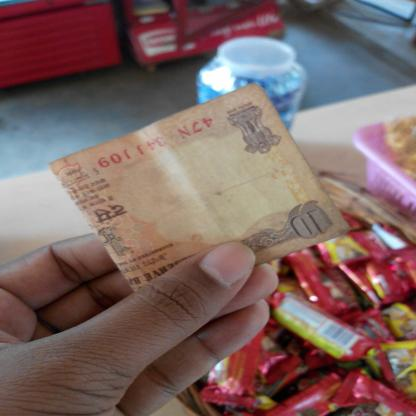Old10Front: (48, 81, 352, 294)
